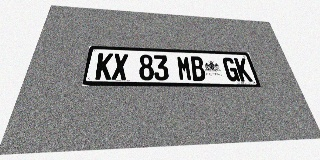3: (154, 55, 169, 81)
8: (139, 54, 154, 80)
B: (189, 56, 207, 81)
G: (222, 57, 240, 81)
K: (95, 53, 113, 80), (234, 58, 253, 82)
M: (176, 56, 193, 81)
X: (111, 53, 128, 80)
